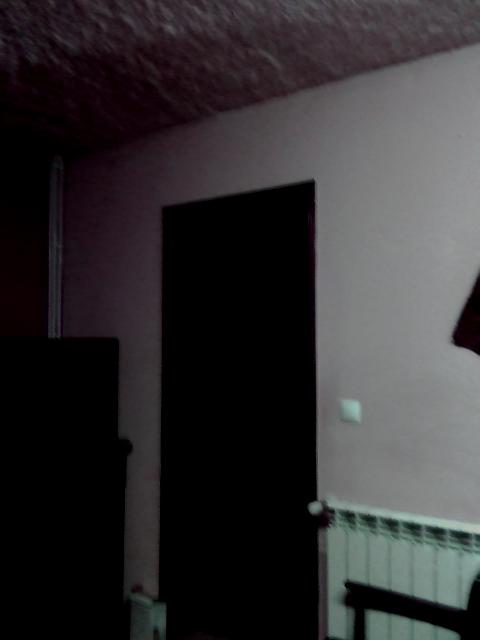closed_door: (158, 179, 316, 639)
